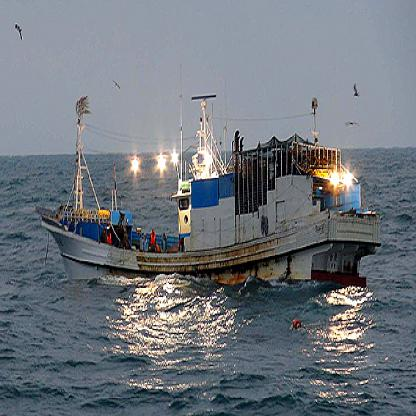fish-b: (29, 79, 388, 305)
